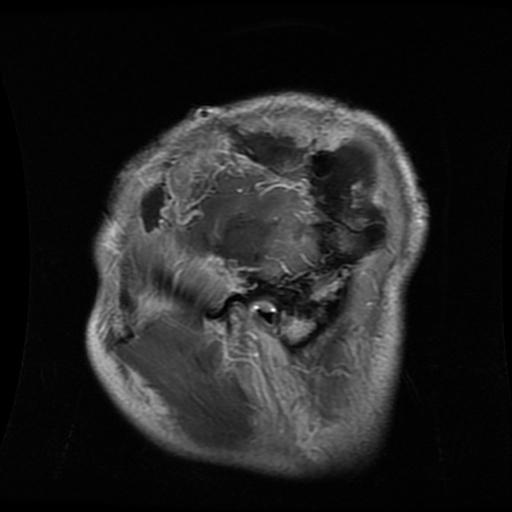glioma: (303, 145, 376, 256)
